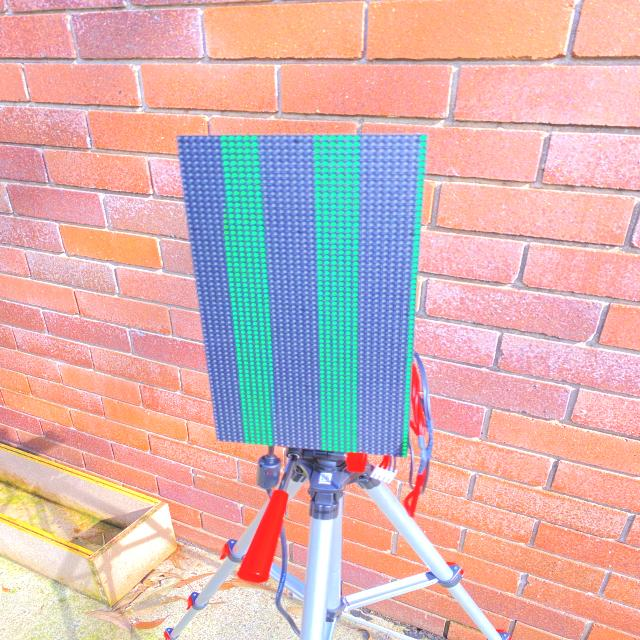matrix: (159, 127, 454, 464)
